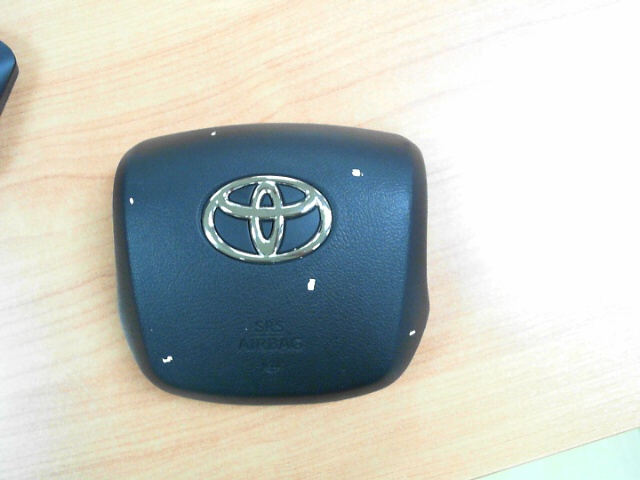Airbag: (307, 279, 316, 291), (351, 168, 364, 176), (162, 355, 173, 364), (409, 330, 416, 336), (130, 197, 134, 206), (210, 131, 216, 136)
